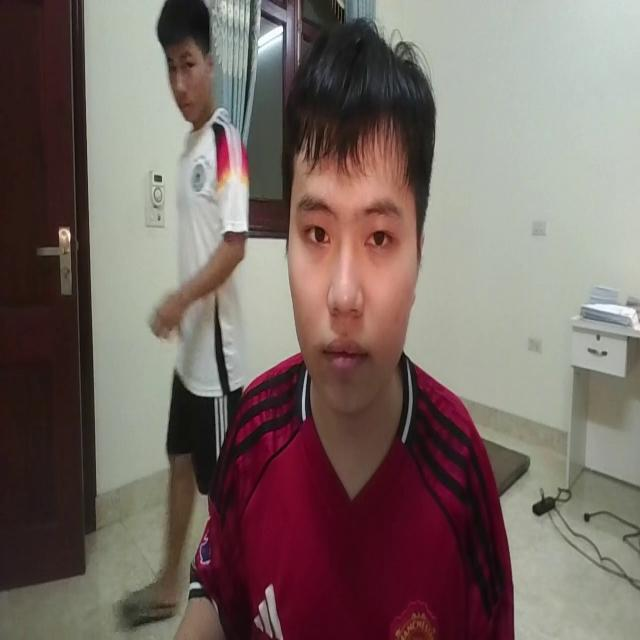extra_person: (111, 0, 242, 622)
student: (192, 17, 514, 640)
